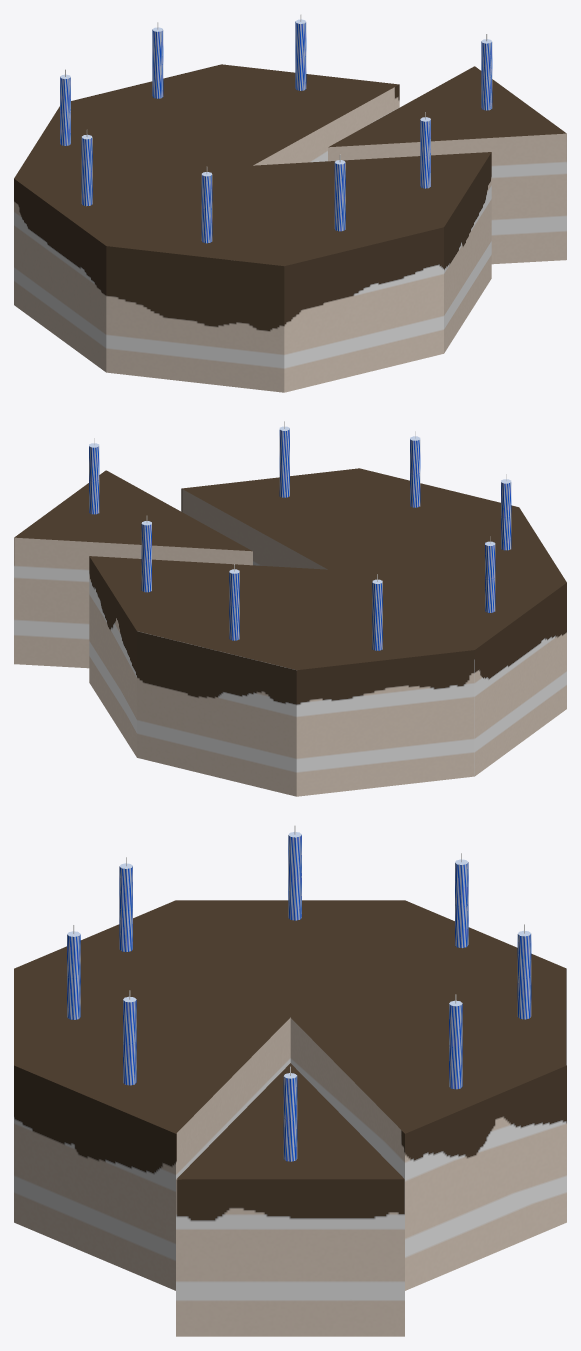
File: Birthday Cake.fbx
3 views of the same model, one above another, from view 1: azimuth 30°, elevation 25°; view 2: azimuth 150°, elevation 25°; view 3: azimuth 270°, elevation 25° (orthographic). The views are drawn at different scales.
Visible parts, largest first — view 1: Cake (full), Cake (slice), Candle (Slice).002; view 2: Cake (full), Cake (slice), Candle (Slice).002; view 3: Cake (full), Cake (slice), Candle (Slice).002.
Part boxes in pixels (left/top/right/bottom): Cake (full): left=14, top=64, right=491, bottom=392; Cake (slice): left=328, top=66, right=566, bottom=264; Candle (Slice).002: left=60, top=14, right=492, bottom=243; Cake (full): left=89, top=468, right=566, bottom=796; Cake (slice): left=14, top=470, right=252, bottom=668; Candle (Slice).002: left=89, top=421, right=511, bottom=650; Cake (full): left=14, top=900, right=566, bottom=1290; Cake (slice): left=176, top=1063, right=404, bottom=1336; Candle (Slice).002: left=67, top=825, right=531, bottom=1161.
Size of the model in its own units: 216 by 89.72 by 180.
